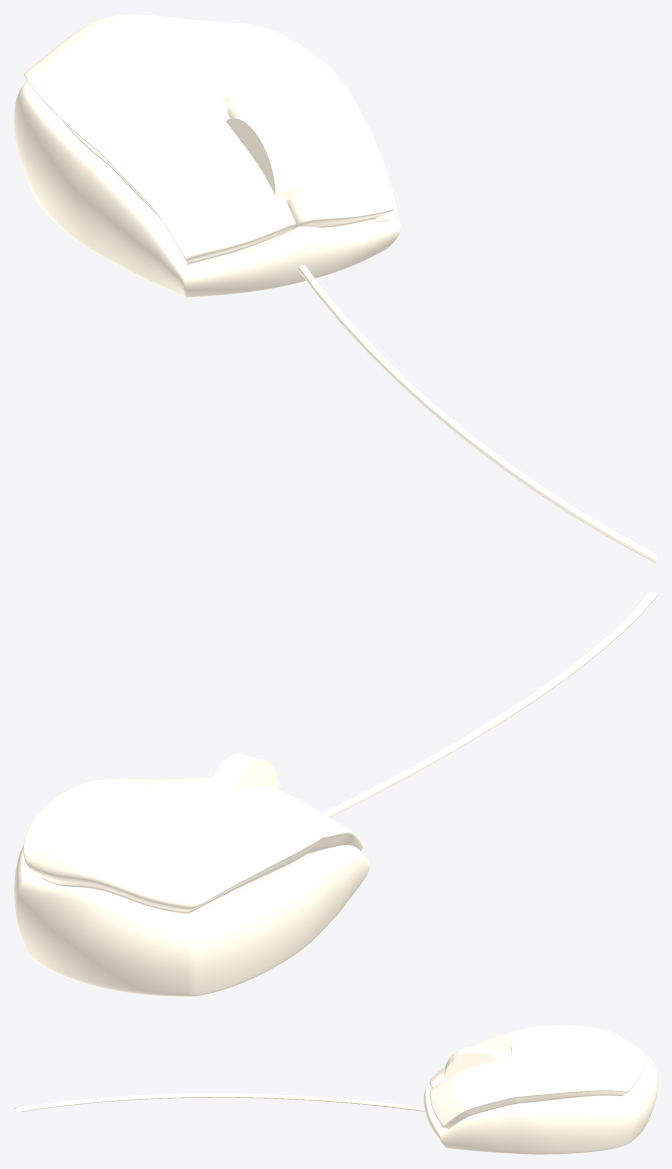
Rendered from Mouse.fbx.
The picture shows the model from 3 angles, top to bottom: view 1: azimuth 30°, elevation 25°; view 2: azimuth 150°, elevation 25°; view 3: azimuth 270°, elevation 25°; orthographic projection. The views are drawn at different scales.
Visible parts, largest first — view 1: Mouse; view 2: Mouse; view 3: Mouse.
Part boxes in pixels (x1=…): Mouse: x1=14, y1=14, x2=657, y2=563; Mouse: x1=14, y1=592, x2=657, y2=996; Mouse: x1=14, y1=1025, x2=657, y2=1154.
Bounding box in the file's own units: 40.2 × 19.7 × 148.
